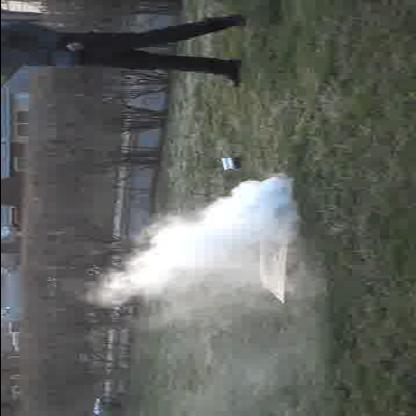Smoke: (103, 178, 292, 322)
